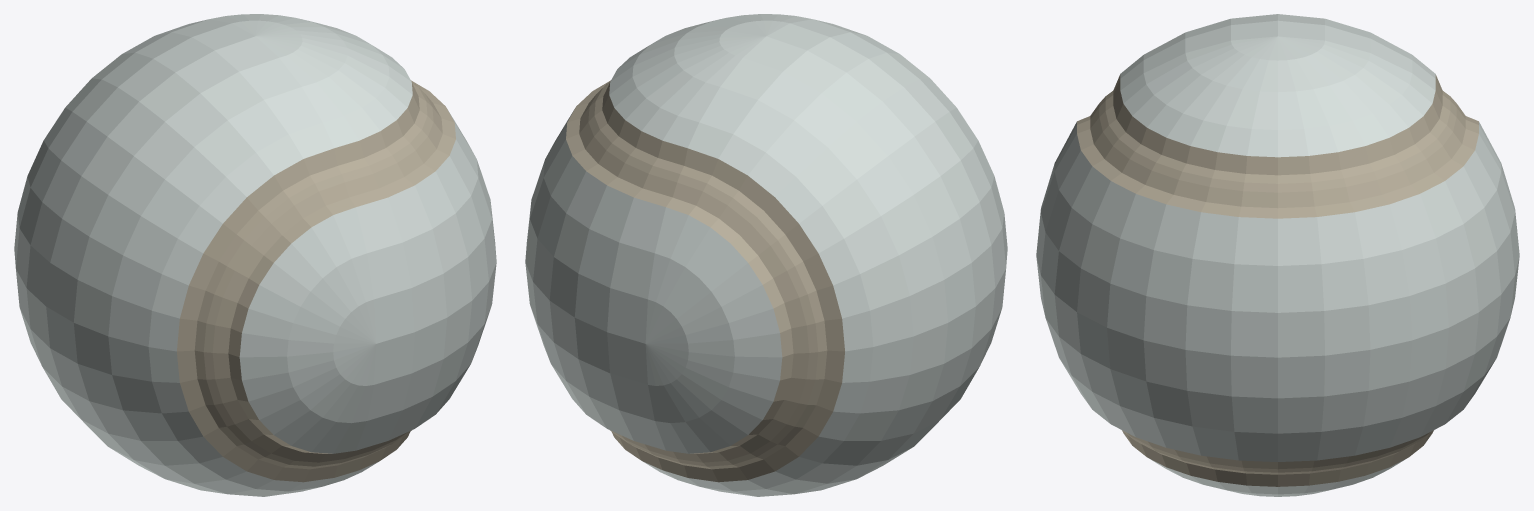
The model's file is haahaa.glb.
3 renders of one model, left to right at view 1: azimuth 30°, elevation 25°; view 2: azimuth 150°, elevation 25°; view 3: azimuth 270°, elevation 25°, orthographic.
Visible parts, largest first — view 1: Sphere.001; view 2: Sphere.001; view 3: Sphere.001.
Part boxes in pixels (bbox=[...]): Sphere.001: bbox=[14, 14, 496, 496]; Sphere.001: bbox=[525, 14, 1007, 496]; Sphere.001: bbox=[1036, 14, 1519, 496].
Size of the model in its own units: 2 by 2 by 2.
